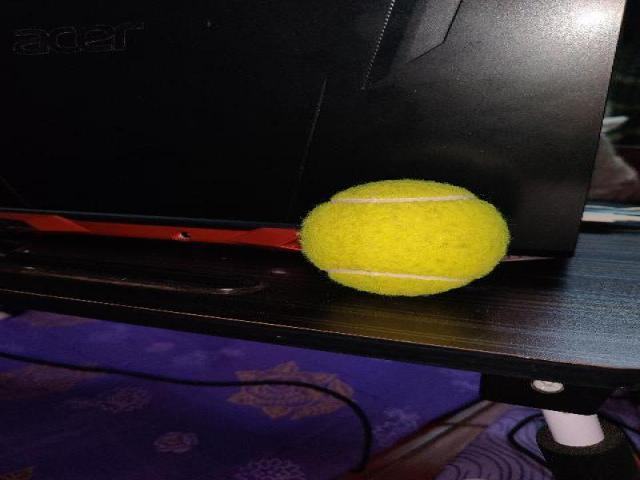tennis-ball: (302, 177, 510, 297)
